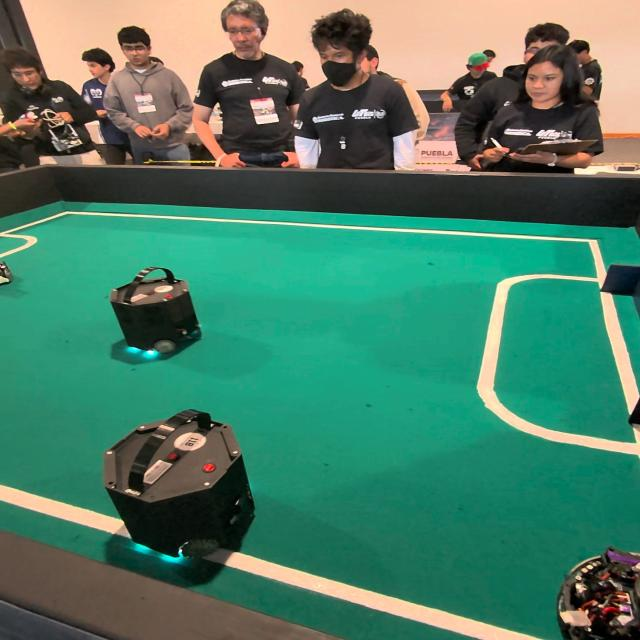Robot: (98, 402, 272, 582), (104, 262, 208, 368), (555, 534, 640, 637), (0, 231, 14, 295)
